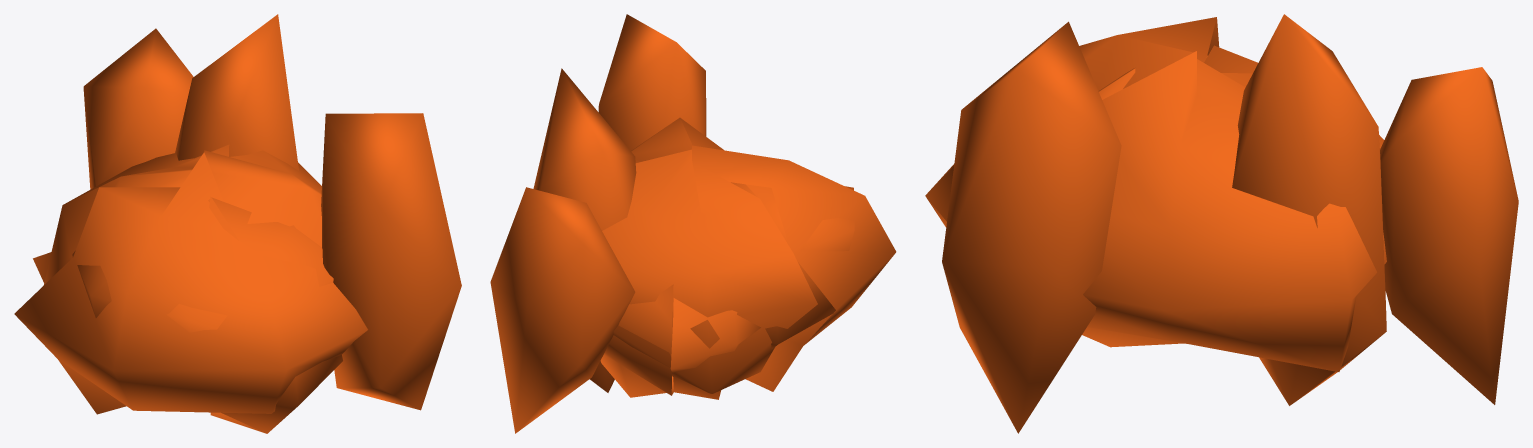
File: sibur.obj
3 views of the same model, side by side, from view 1: azimuth 30°, elevation 25°; view 2: azimuth 150°, elevation 25°; view 3: azimuth 270°, elevation 25° (orthographic). The views are drawn at different scales.
Visible parts, largest first — view 1: sibur_deposit; view 2: sibur_deposit; view 3: sibur_deposit.
Part boxes in pixels (bbox=[...]): sibur_deposit: bbox=[14, 14, 461, 433]; sibur_deposit: bbox=[490, 14, 896, 433]; sibur_deposit: bbox=[925, 14, 1518, 433].
Size of the model in its own units: 0.768 by 0.7269 by 0.9492.
